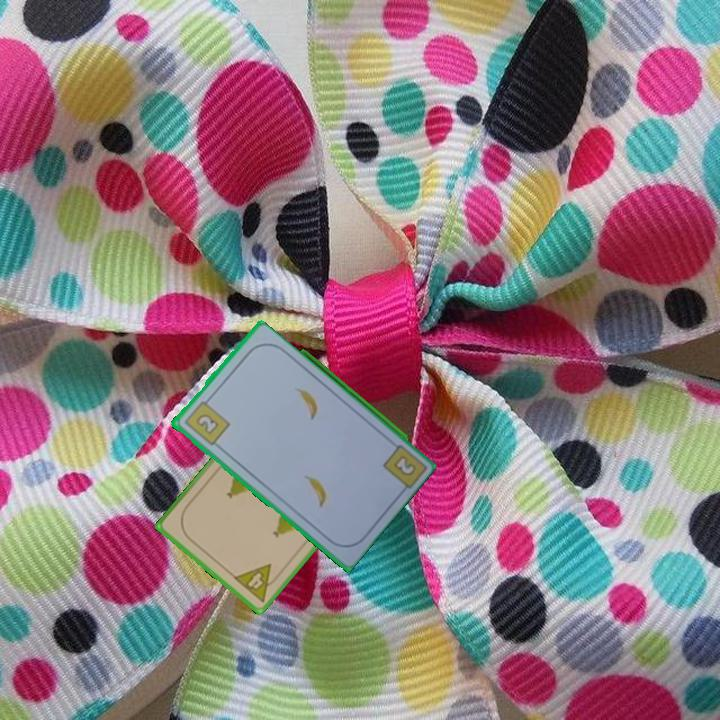2b: (180, 394, 232, 448), (392, 454, 417, 477)
4p: (230, 560, 284, 605)
